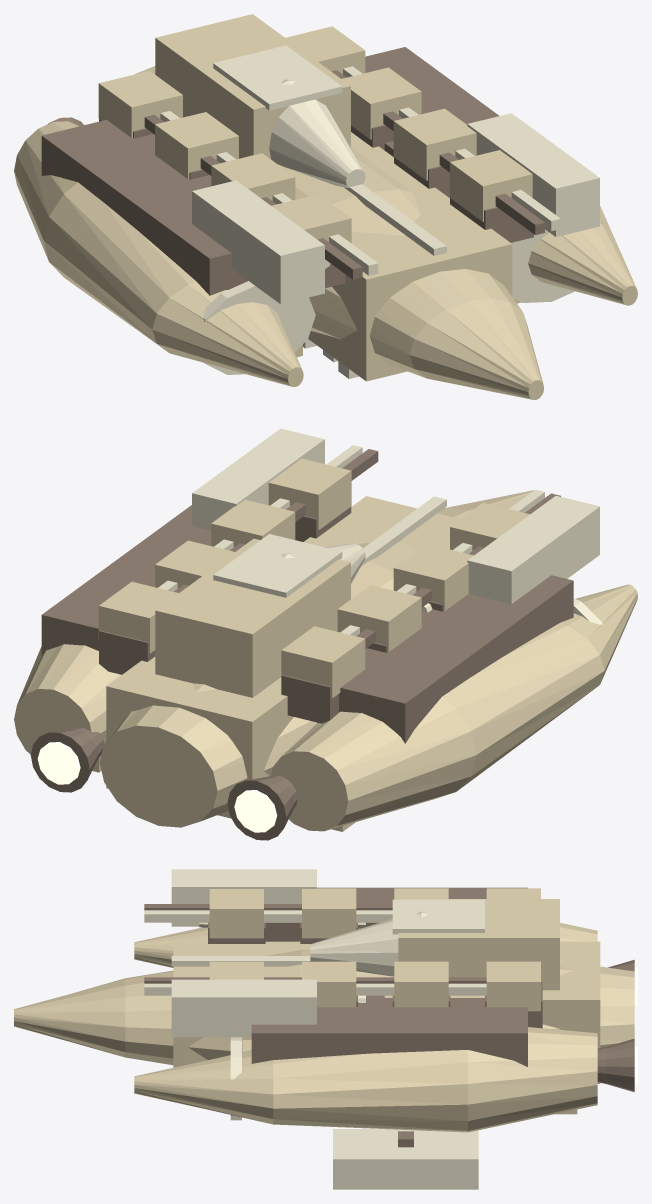
3 renders of one model, top to bottom at view 1: azimuth 30°, elevation 25°; view 2: azimuth 150°, elevation 25°; view 3: azimuth 270°, elevation 25°, orthographic. The views are drawn at different scales.
Size of the model in its own units: 14.96 by 7.08 by 21.62.
